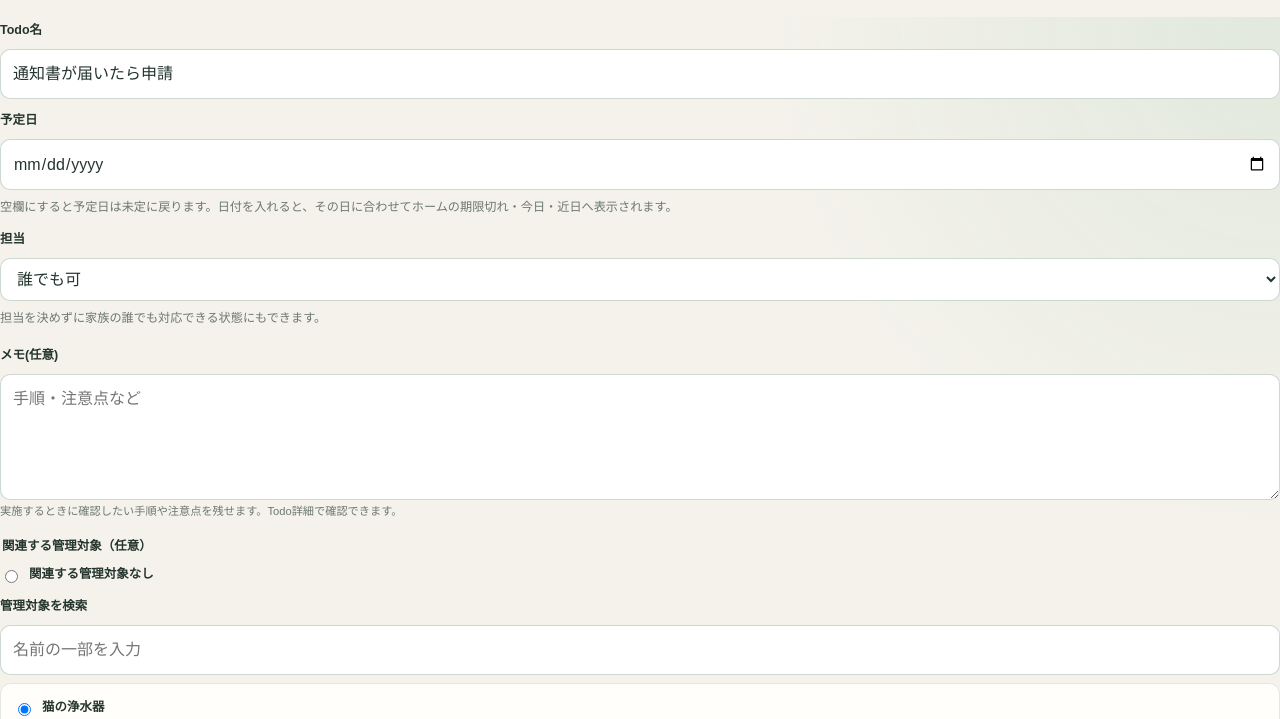
Test: Todo編集フォーム(TodoEditForm) › 管理対象は名前で絞り込んで選び直せる
Type "エアコン" into the search field labelled "管理対象を検索". click: (640, 650)
box: [0,625,1279,675]
(page scrolled)
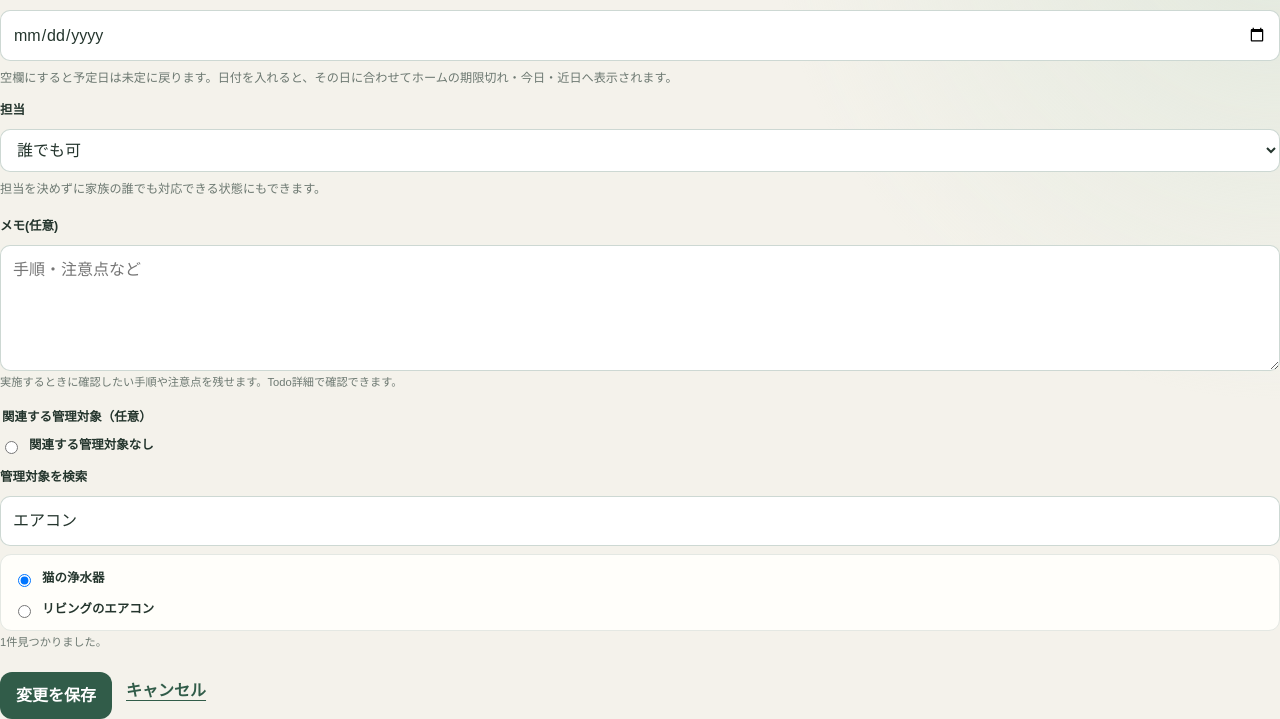
Expected: the radio button labelled "猫の浄水器" is checked, [18,574,31,587]
Click the radio button labelled "リビングのエアコン". click: (24, 611)
box: [18,605,31,618]
(page scrolled)
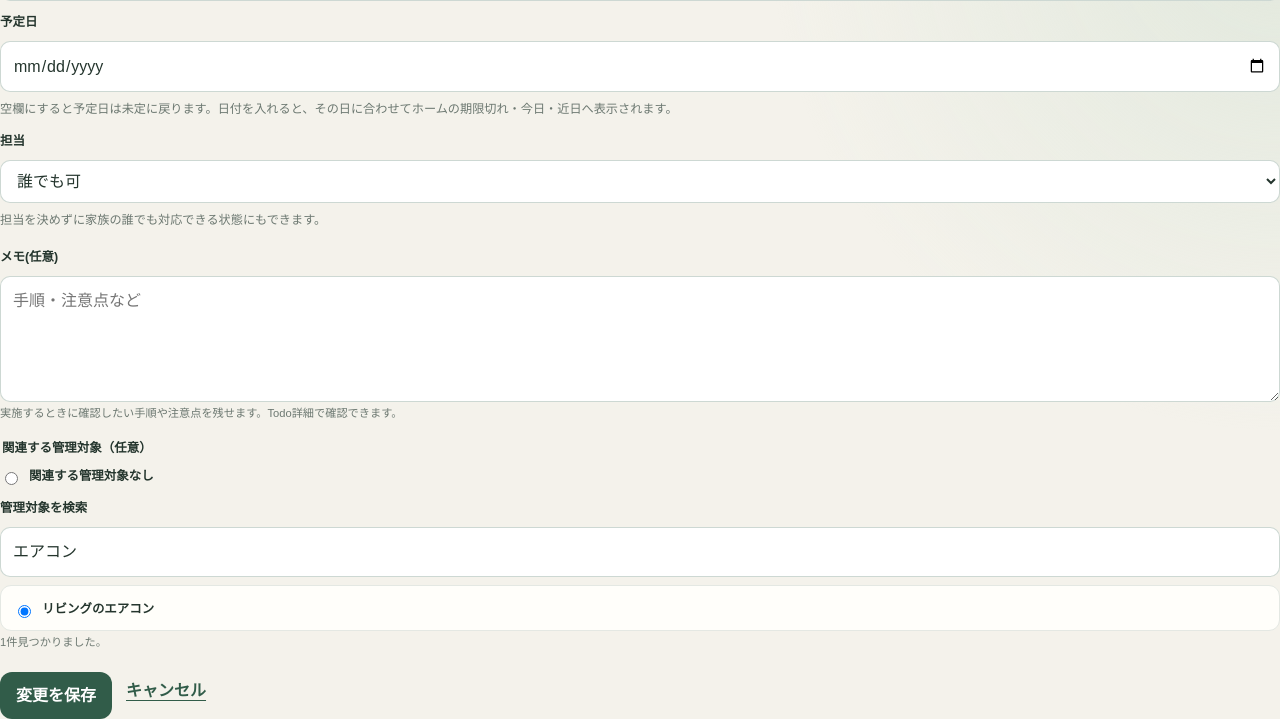
Now the radio button labelled "リビングのエアコン" is checked, box [18,605,31,618]
検索語を消しても選び直した管理対象は保たれる。
Clear the search field labelled "管理対象を検索". click: (640, 552)
box: [0,527,1279,577]
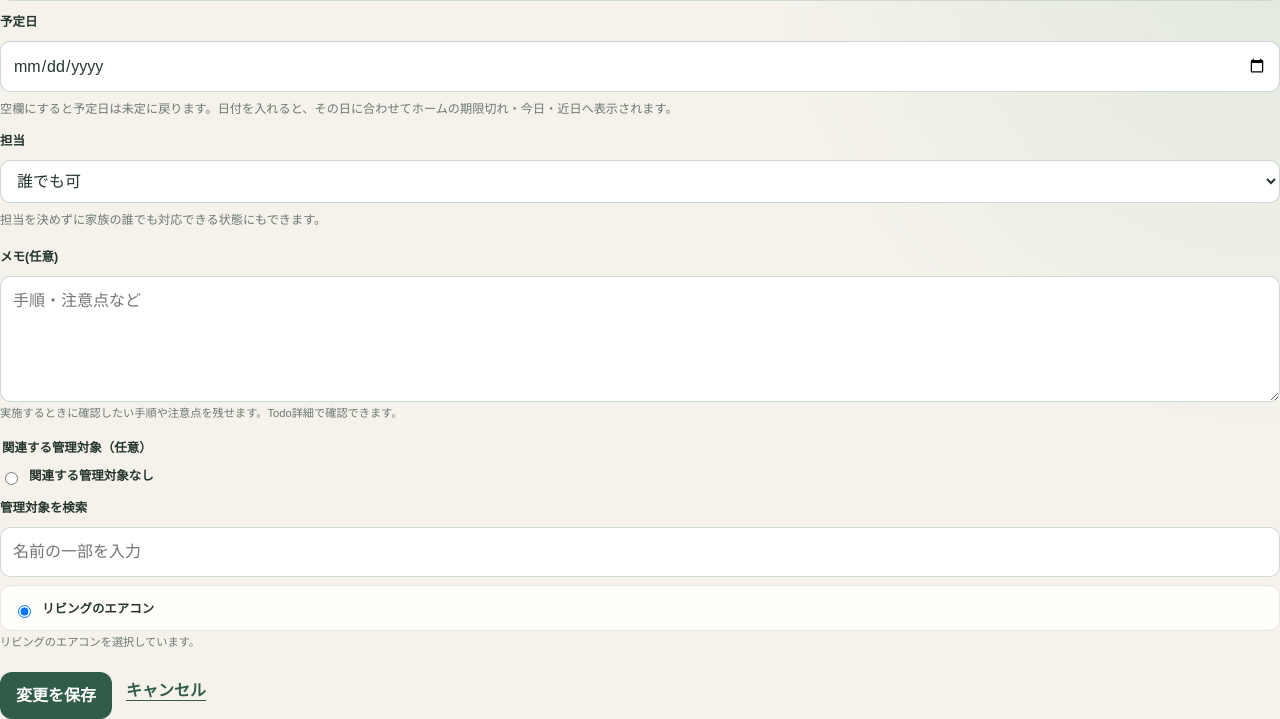
Now the text "リビングのエアコンを選択しています。" is shown, box [0,636,200,648]
